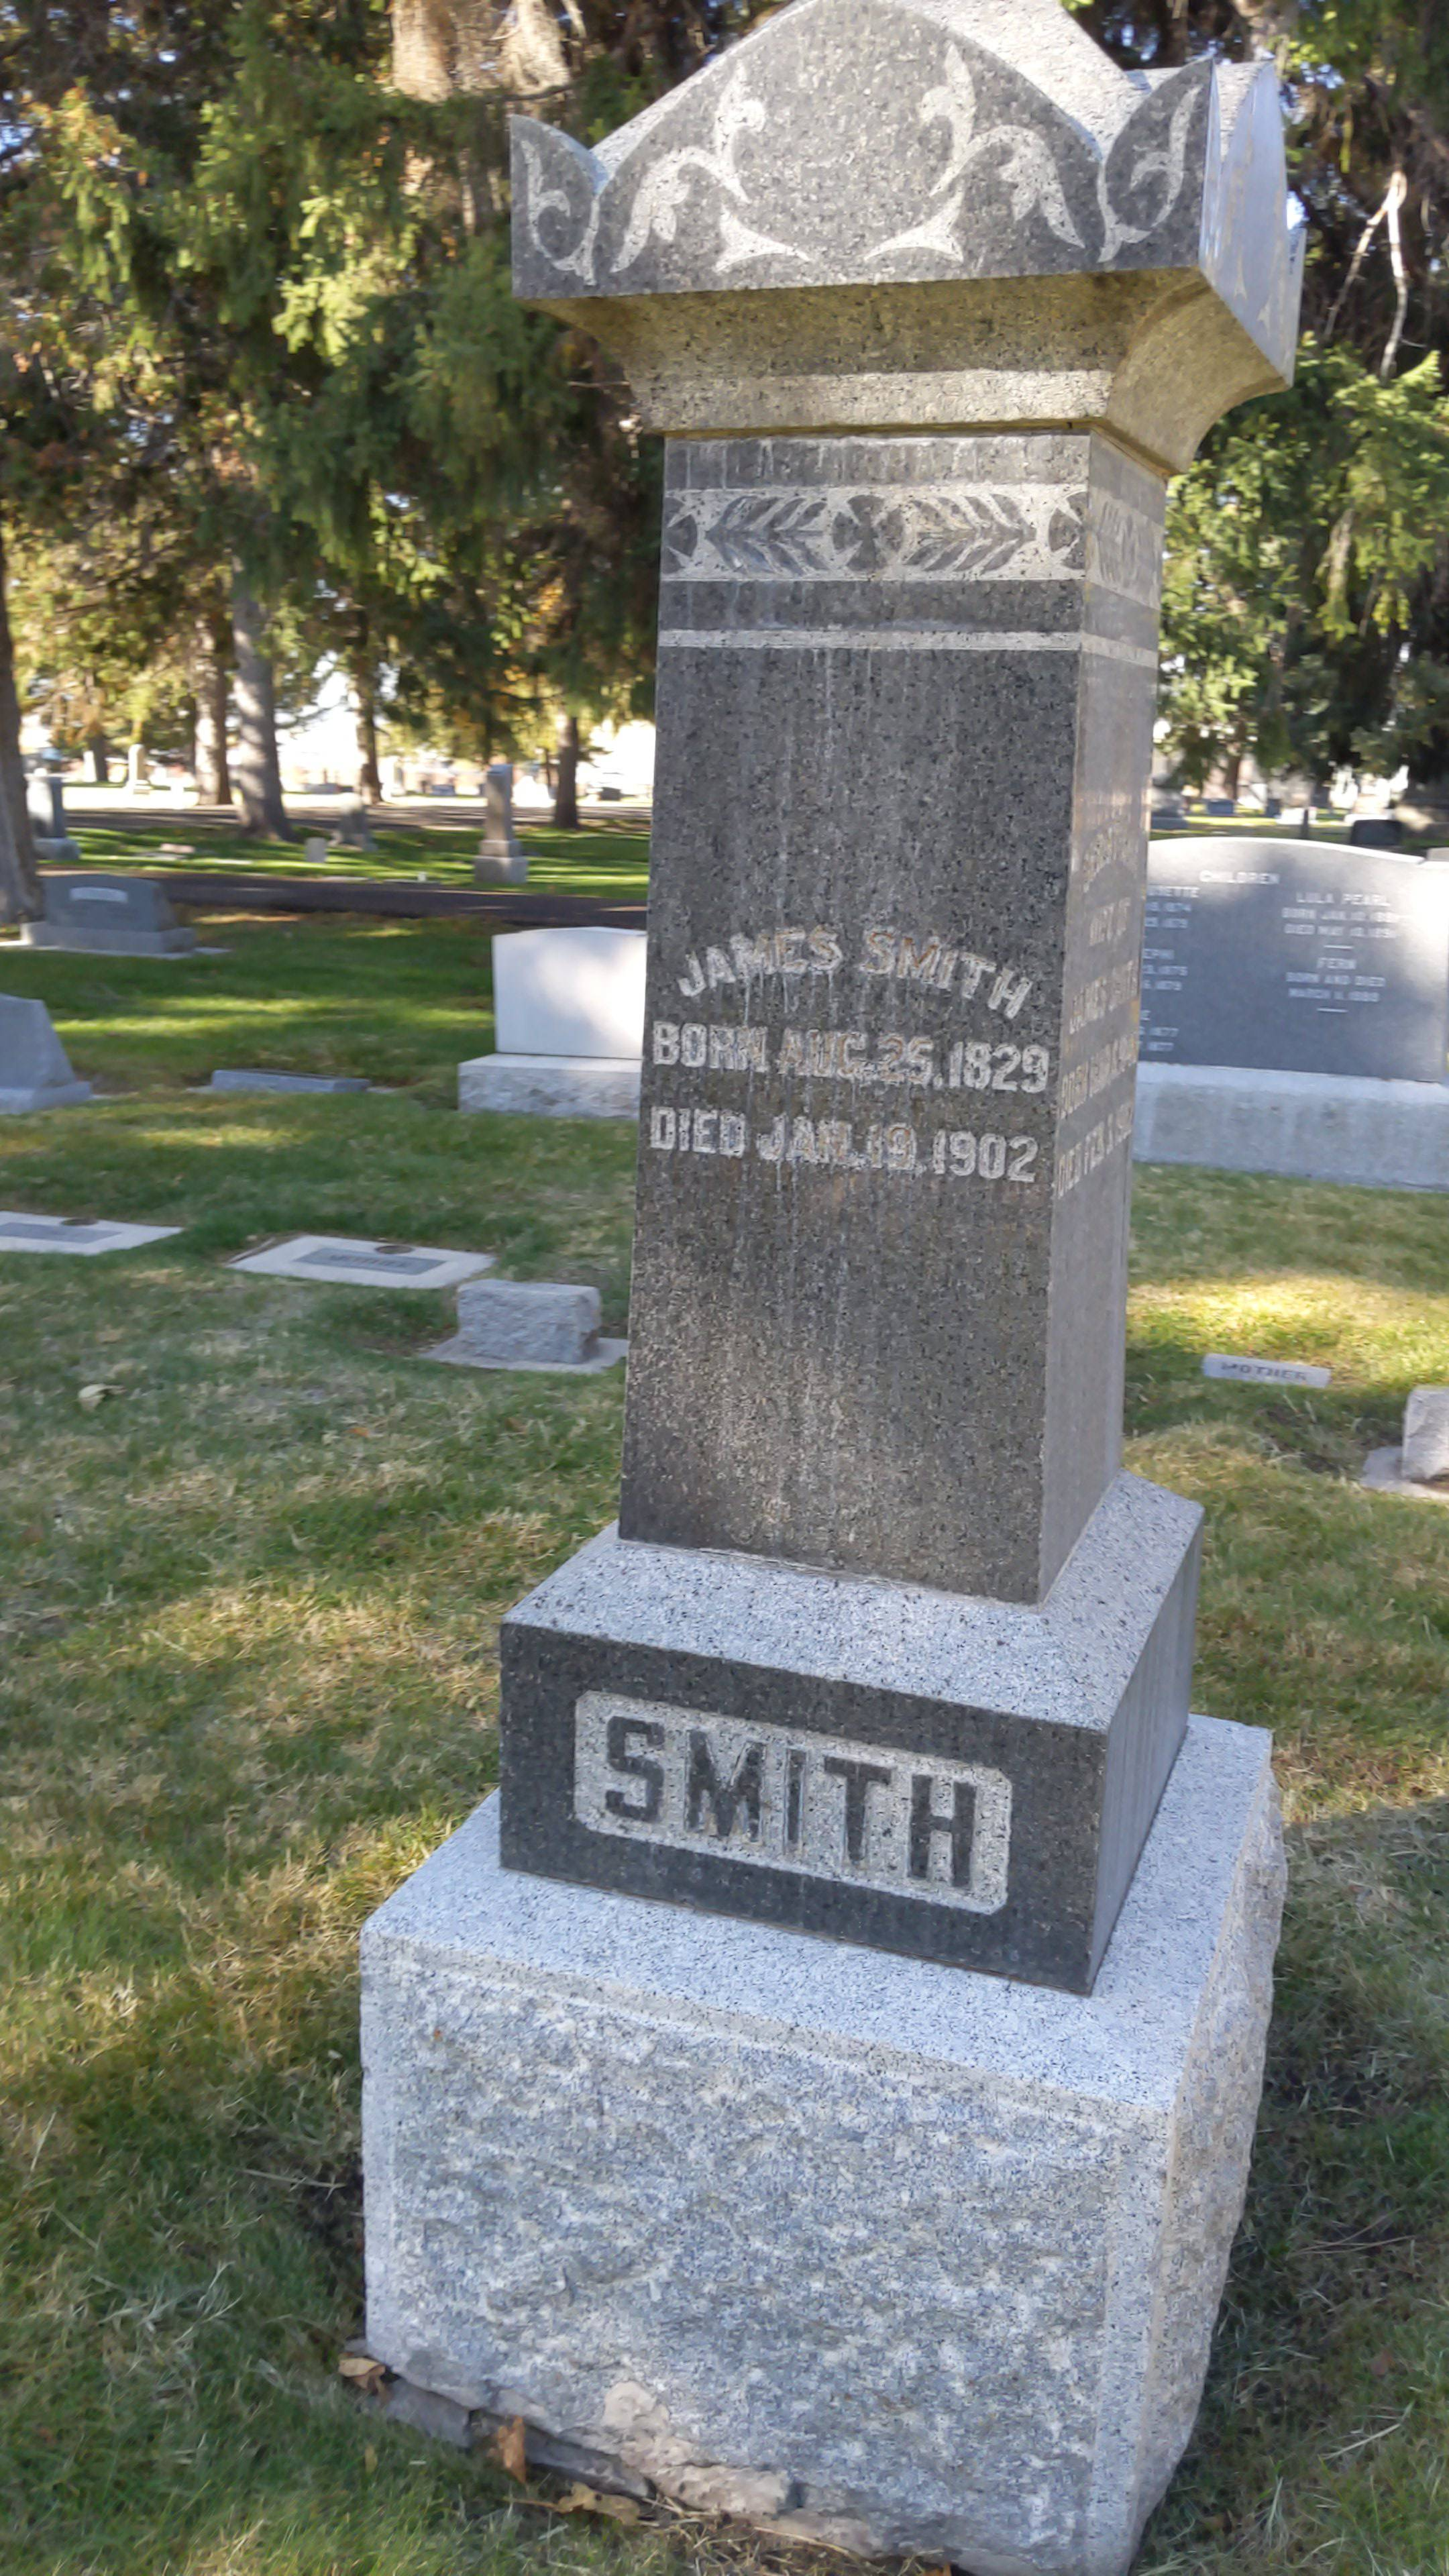obelisk: (478, 0, 1299, 1987)
